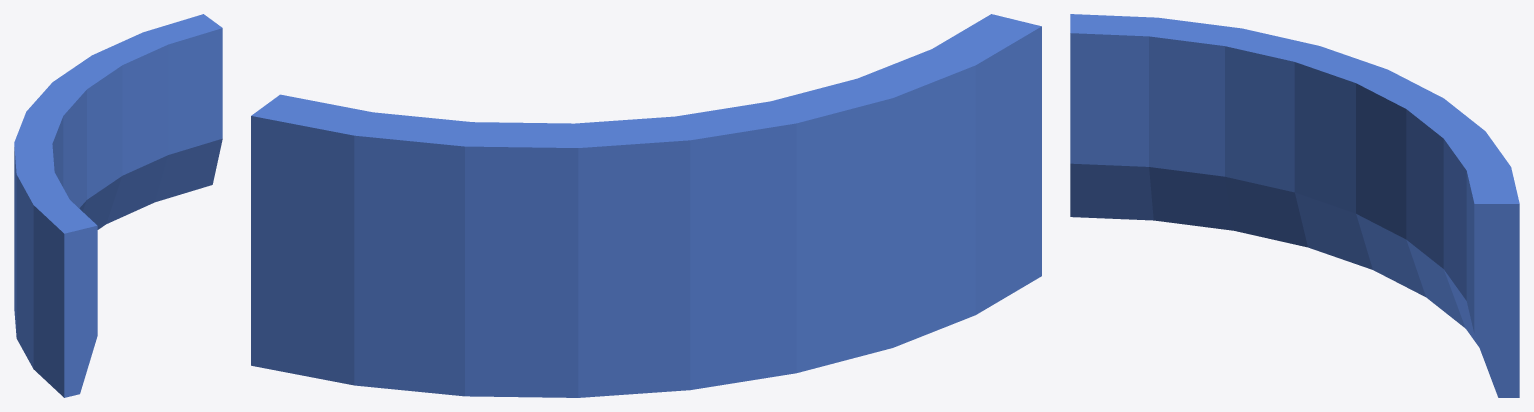
File: TopCables_Corner_Round_Inner_Collision.fbx
3 renders of one model, left to right at view 1: azimuth 30°, elevation 25°; view 2: azimuth 150°, elevation 25°; view 3: azimuth 270°, elevation 25°, orthographic. The views are drawn at different scales.
Parts seen in each view (by area): view 1: TopCables_Corner_Round_Inner_Collision; view 2: TopCables_Corner_Round_Inner_Collision; view 3: TopCables_Corner_Round_Inner_Collision.
Part boxes in pixels (x1=…): TopCables_Corner_Round_Inner_Collision: x1=14, y1=14, x2=222, y2=397; TopCables_Corner_Round_Inner_Collision: x1=251, y1=14, x2=1041, y2=397; TopCables_Corner_Round_Inner_Collision: x1=1070, y1=14, x2=1519, y2=397.
Bounding box in the file's own units: 420 × 200 × 420.
